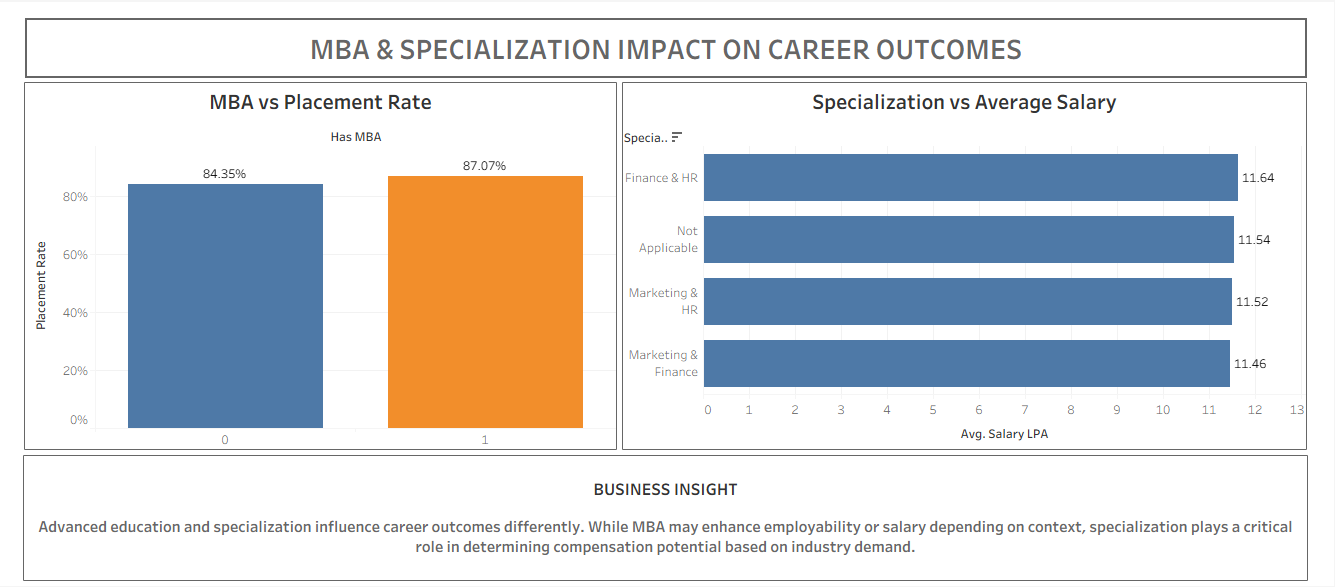

The page's visual inventory and layout, read from the dashboard file:
{"tool":"tableau","page":{"name":"MBA and Specialization Impact","canvas":[1000,1000],"units":"permille","ordinal":4},"visuals":[{"type":"text","box":[23.4,27.4,956.7,102.7]},{"type":"worksheet","title":"MBA vs Placement Rate","mark":"Automatic","rows":["Calculation_0515163097227265"],"cols":["Has_MBA"],"box":[22.5,137,442.4,630.1]},{"type":"worksheet","title":"Specialization vs Average Salary","mark":"Automatic","rows":["Specialization"],"cols":["Salary_LPA"],"box":[468.7,137,511.2,630.1]},{"type":"text","box":[21.6,775.7,959,215.8]}]}

Visuals, with their boxes on the dashboard's canvas, which has no fixed pixel size, in thousandths of its width and height (x1, y1, x2, y2). These are canvas units, not pixel positions in the 1335x587 screenshot, which may show the page scaled, cropped or inside an application window:
text: [left=23, top=27, right=980, bottom=130]
"MBA vs Placement Rate" worksheet: [left=22, top=137, right=465, bottom=767]
"Specialization vs Average Salary" worksheet: [left=469, top=137, right=980, bottom=767]
text: [left=22, top=776, right=981, bottom=992]
